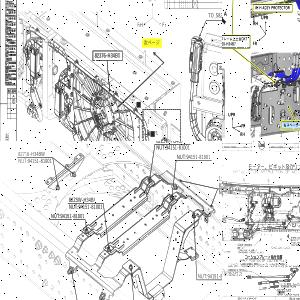PartNumber: (68, 196, 95, 204), (18, 151, 45, 157), (94, 52, 120, 58), (186, 154, 212, 160), (78, 204, 103, 210), (60, 213, 85, 219), (28, 158, 52, 164), (166, 145, 190, 150), (207, 272, 222, 279), (222, 40, 236, 46), (155, 141, 183, 144), (237, 243, 250, 246)
